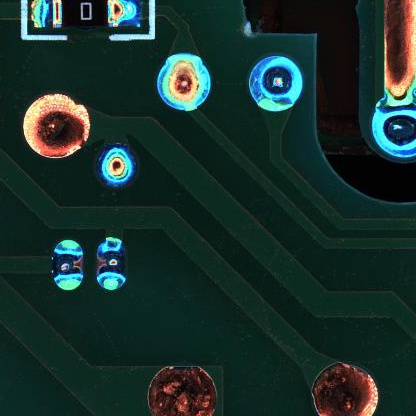spot: (158, 52, 211, 112), (248, 55, 304, 111), (371, 97, 416, 159), (95, 235, 128, 291), (51, 238, 84, 291), (96, 145, 136, 187)
